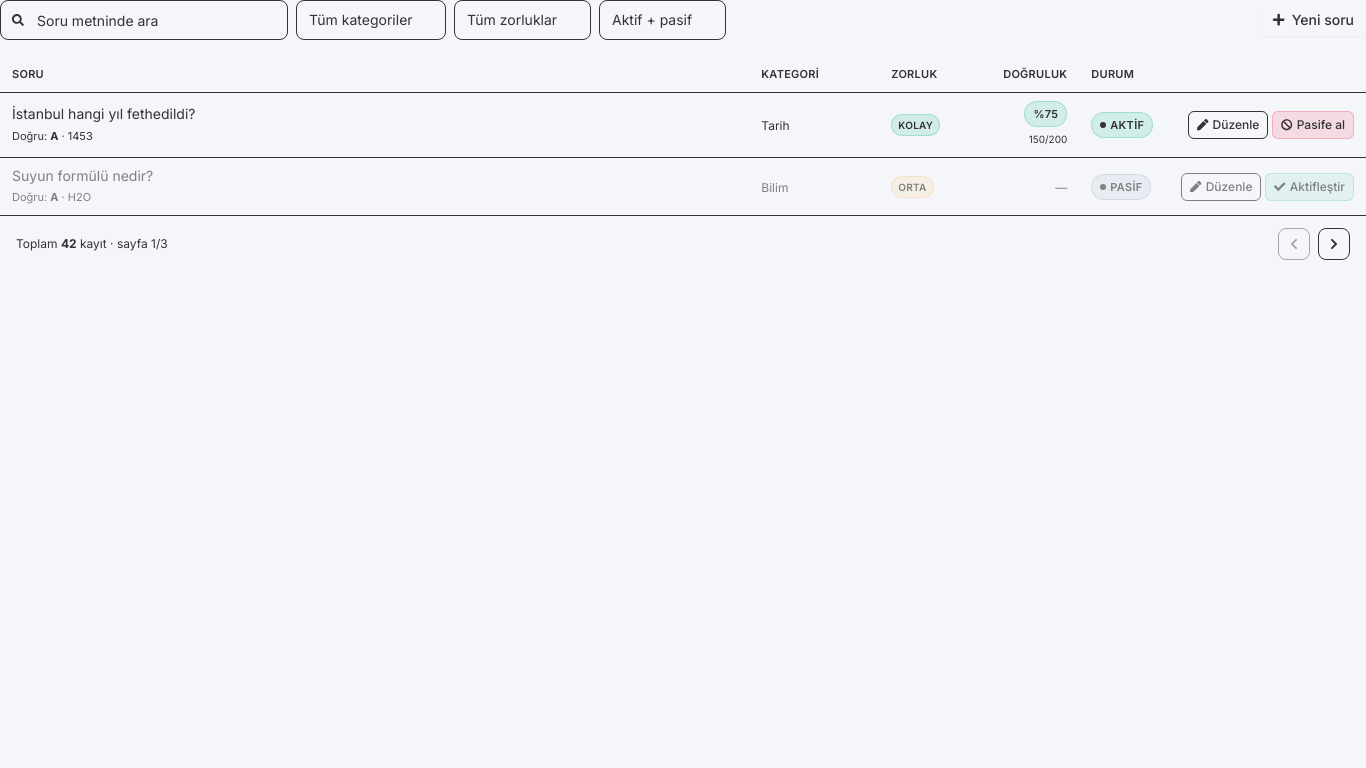
Test: GameQuestions › sunucu doğrulama hatasını alanın altında gösterir
Click the button "Düzenle" in the row of "İstanbul hangi yıl fethedildi?": [1228, 125] box [1188,111,1268,139]
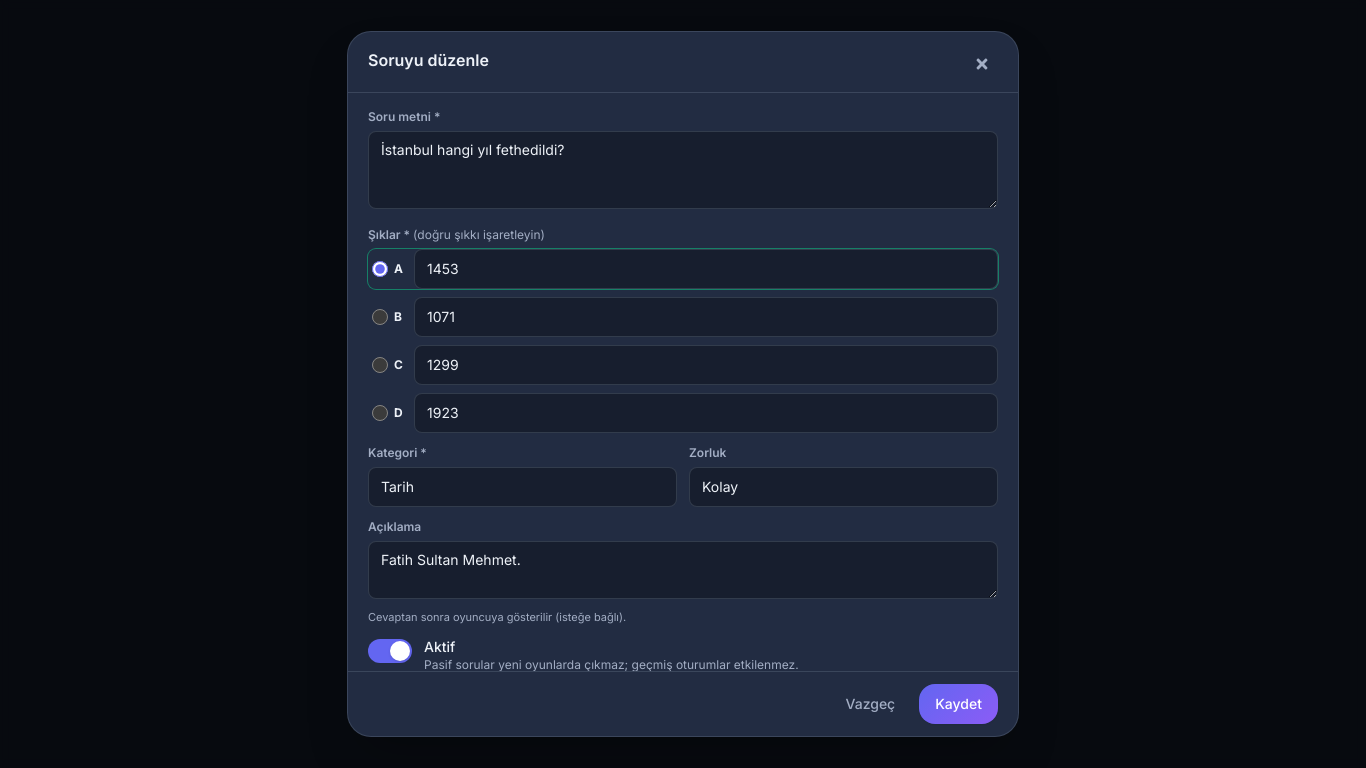
Click the button with test id "question-save": [959, 704] box [919,684,998,724]
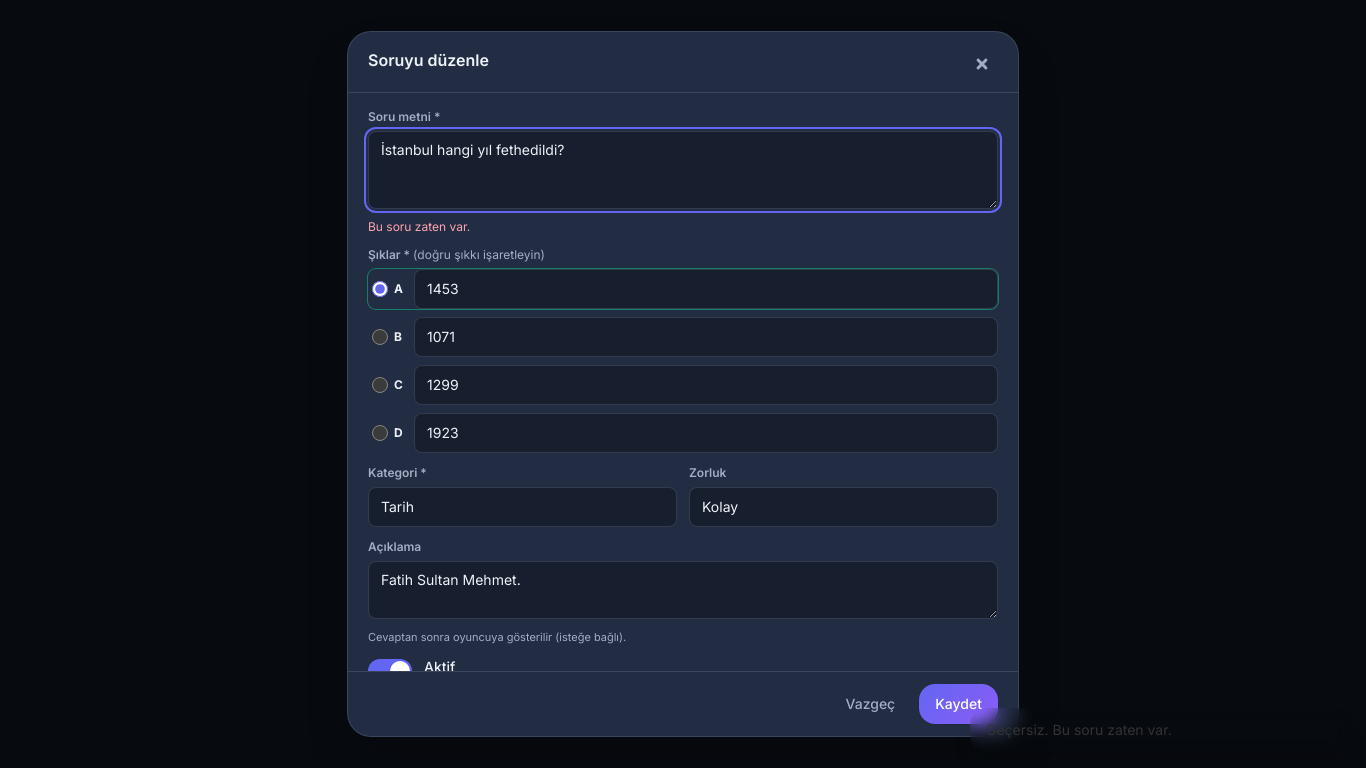
Check: the text "Bu soru zaten var." is shown, box [368,219,470,234]
